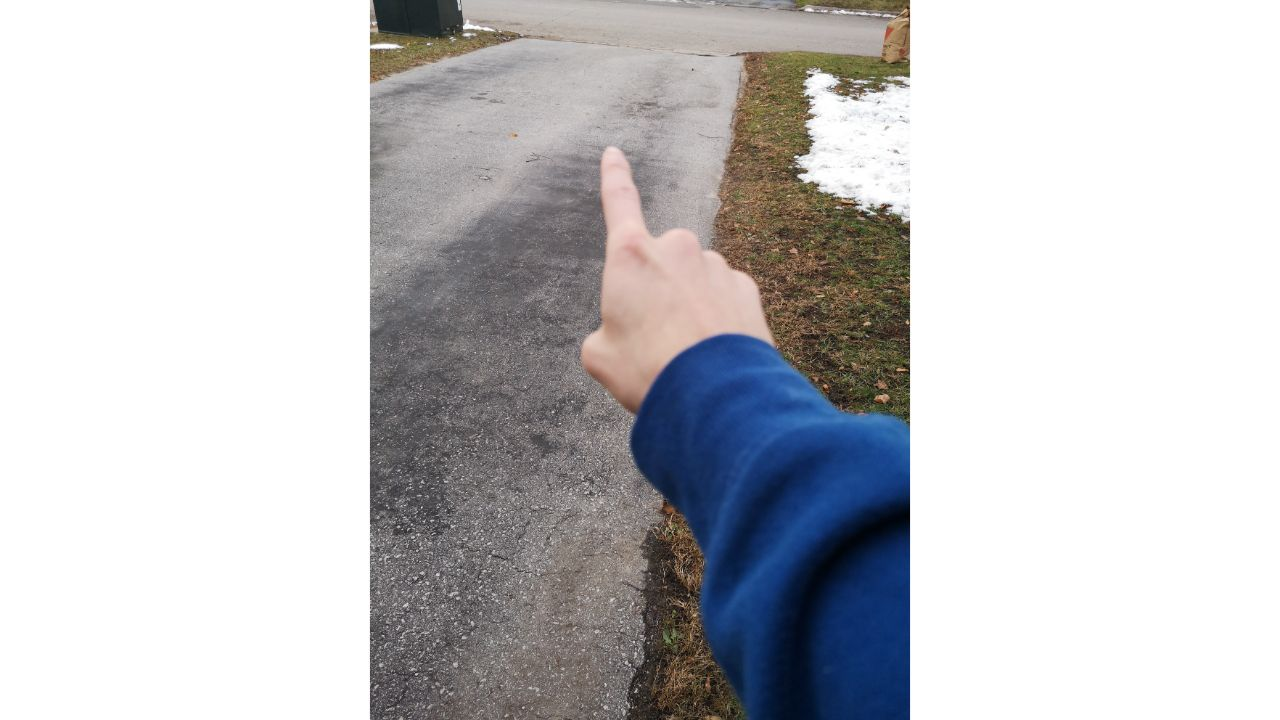finger: (574, 145, 791, 416)
